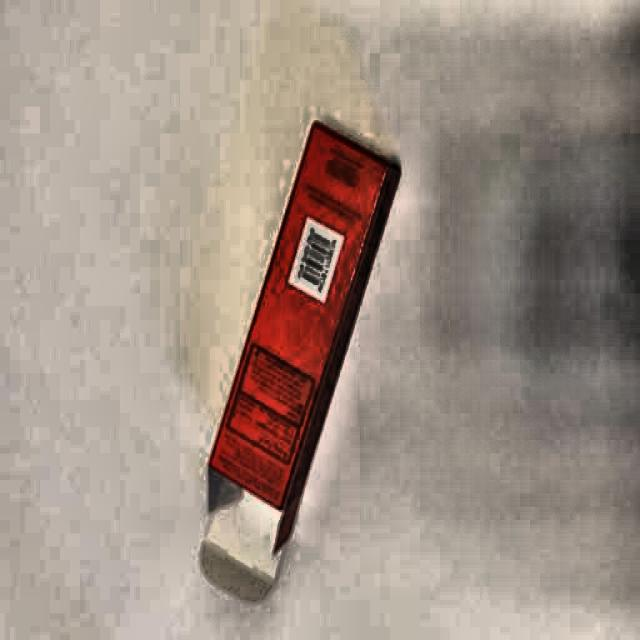paper: (202, 116, 398, 615)
